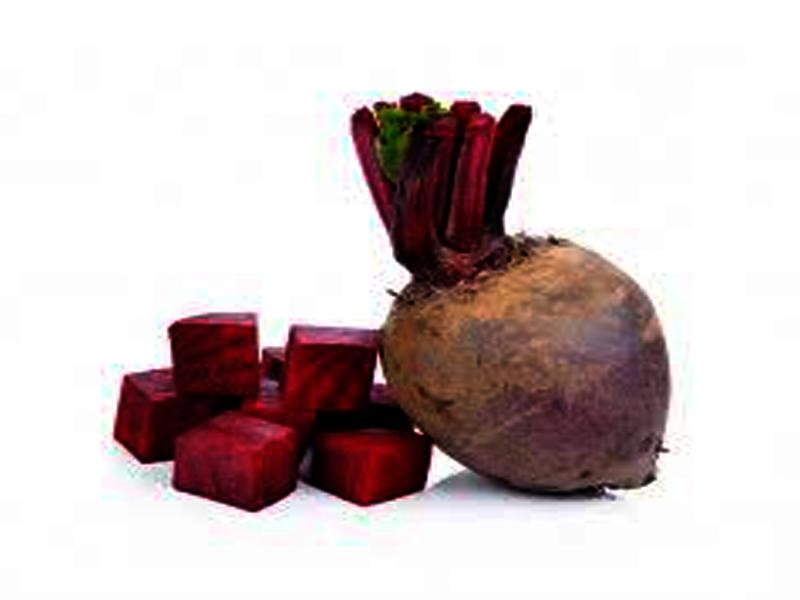Beet: (352, 97, 668, 495)
